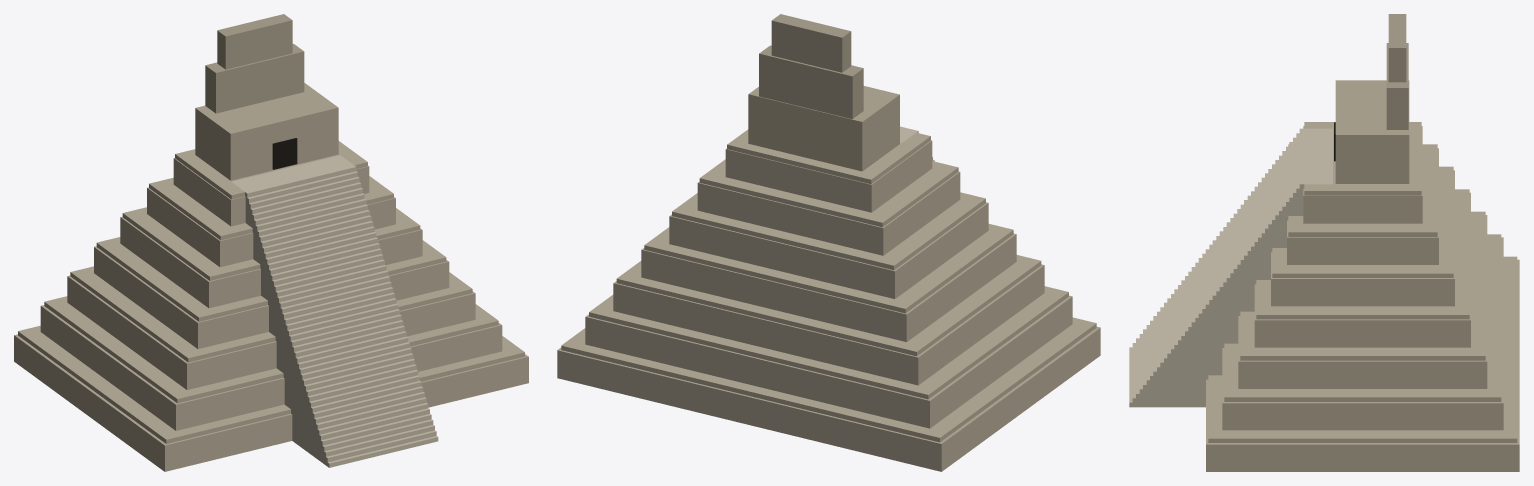
File: meso-tikal-t4-ruin.glb
The picture shows the model from 3 angles, left to right: view 1: azimuth 30°, elevation 25°; view 2: azimuth 150°, elevation 25°; view 3: azimuth 270°, elevation 25°; orthographic projection. The views are drawn at different scales.
Visible parts, largest first — view 1: meso-body, meso-stair, meso-shrine, meso-comb, meso-door; view 2: meso-body, meso-shrine, meso-comb; view 3: meso-body, meso-stair, meso-shrine, meso-comb.
Boxes of the visible parts, box(x1,y1,x2,y2) form: meso-body: box(14, 141, 528, 471); meso-stair: box(231, 155, 438, 467); meso-shrine: box(195, 83, 338, 180); meso-comb: box(205, 14, 304, 113); meso-door: box(272, 138, 297, 169); meso-body: box(557, 129, 1100, 471); meso-shrine: box(748, 86, 899, 171); meso-comb: box(759, 14, 863, 118); meso-body: box(1206, 122, 1519, 471); meso-stair: box(1129, 128, 1332, 407); meso-shrine: box(1335, 80, 1409, 183); meso-comb: box(1386, 14, 1408, 129).
Bounding box in the file's own units: 79.6 × 70 × 71.09.
